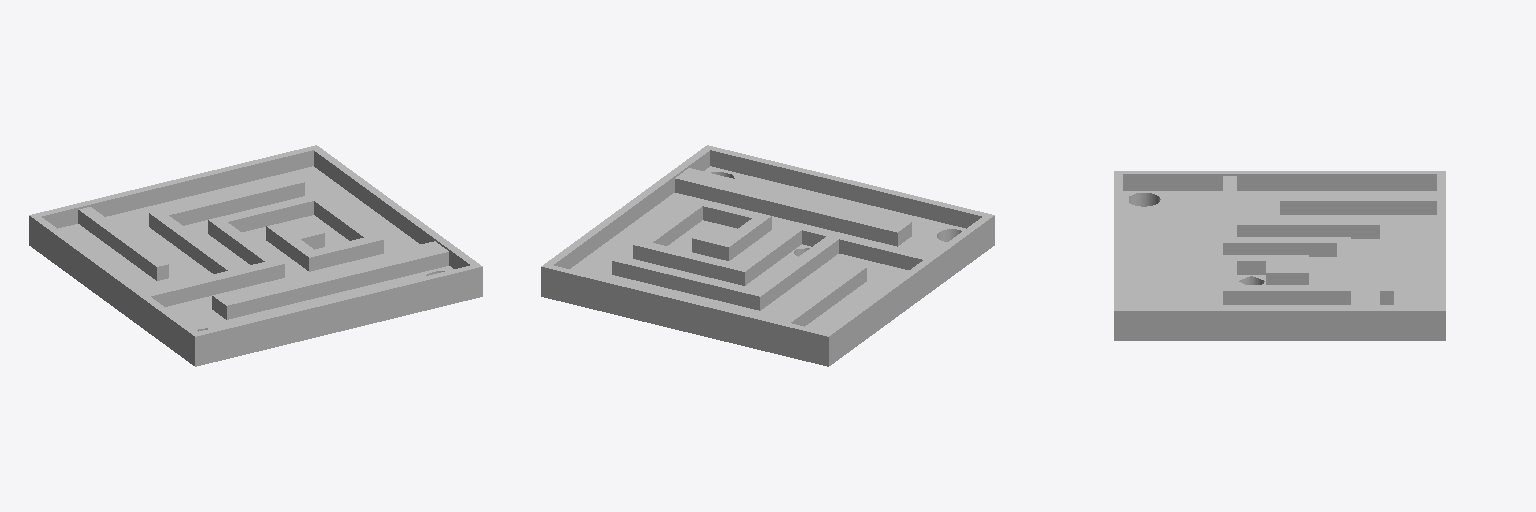
The model's file is night3.obj.
3 views of the same model, side by side, from view 1: azimuth 30°, elevation 25°; view 2: azimuth 150°, elevation 25°; view 3: azimuth 270°, elevation 25° (orthographic).
Visible parts, largest first — view 1: Cube_Cube.001; view 2: Cube_Cube.001; view 3: Cube_Cube.001.
Part boxes in pixels (bbox=[...]): Cube_Cube.001: bbox=[29, 145, 482, 366]; Cube_Cube.001: bbox=[541, 145, 994, 366]; Cube_Cube.001: bbox=[1114, 171, 1445, 340].
Bounding box in the file's own units: 3 × 0.3 × 3.